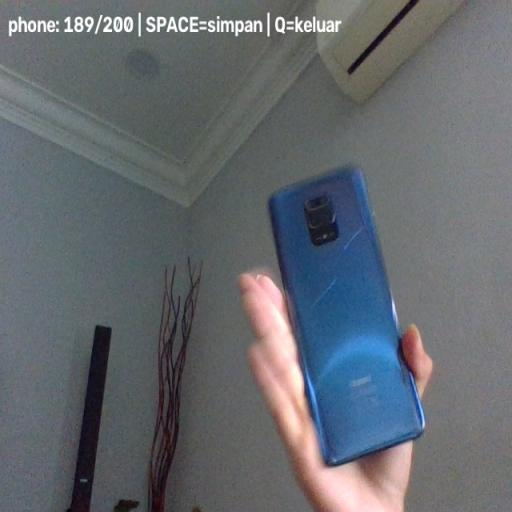Phone: (266, 166, 426, 468)
